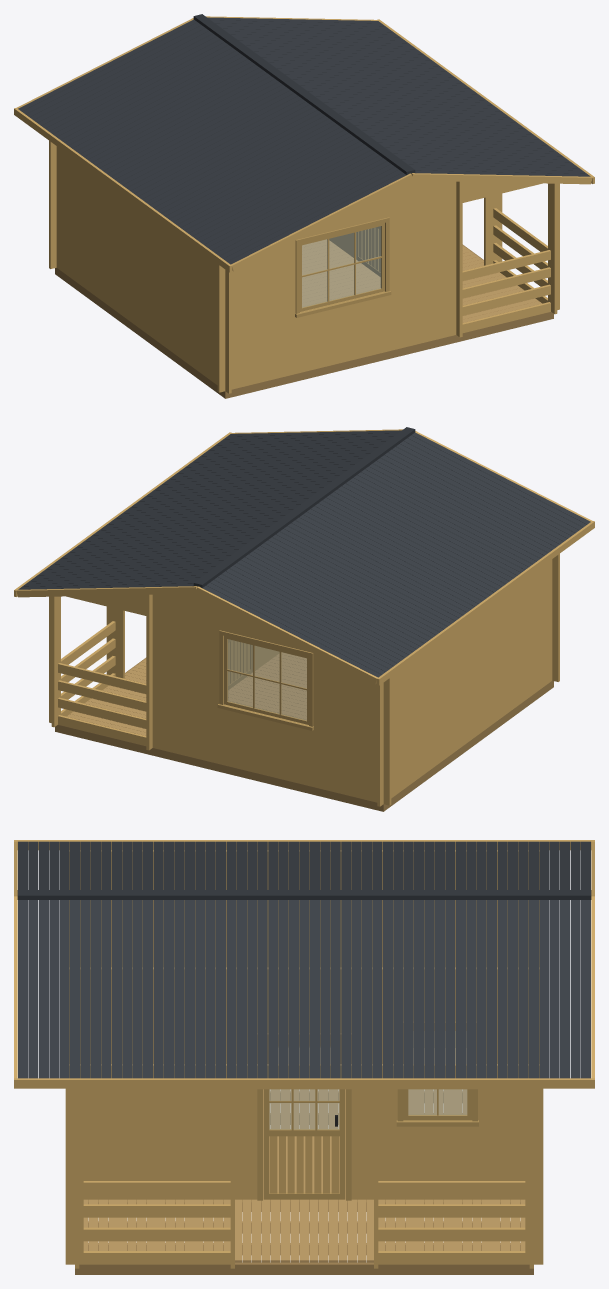
File: вольга_5_5_5_44_мм_встроенная_терраса.glb
The picture shows the model from 3 angles, top to bottom: view 1: azimuth 30°, elevation 25°; view 2: azimuth 150°, elevation 25°; view 3: azimuth 270°, elevation 25°; orthographic projection. The views are drawn at different scales.
Visible parts, largest first — view 1: roof, walls, floor, object 39, house, object 46; view 2: roof, walls, floor, object 51, house, object 58; view 3: roof, walls, floor, house, object 15, object 28, object 2, object 3, object 21, object 22, object 34, object 6.
Boxes of the visible parts, box(x1,y1,x2,y2) form: roof: box(14, 14, 594, 272); walls: box(49, 140, 559, 393); floor: box(302, 239, 541, 322); object 39: box(302, 226, 380, 307); house: box(55, 244, 553, 398); object 46: box(295, 291, 391, 317); roof: box(14, 427, 594, 685); walls: box(49, 553, 559, 806); floor: box(67, 652, 306, 735); object 51: box(228, 639, 306, 720); house: box(55, 657, 553, 811); object 58: box(217, 704, 313, 730); roof: box(14, 840, 594, 1088); walls: box(65, 850, 543, 1268); floor: box(83, 1048, 525, 1262); house: box(75, 1092, 533, 1274); object 15: box(269, 1089, 339, 1129); object 28: box(408, 1031, 466, 1114); object 2: box(263, 1039, 269, 1199); object 3: box(339, 1039, 345, 1199); object 21: box(257, 1033, 262, 1202); object 22: box(346, 1033, 351, 1202); object 34: box(396, 1120, 478, 1126); object 6: box(264, 1129, 339, 1136).
Bounding box in the file's own units: 5.94 × 3.16 × 6.08.
